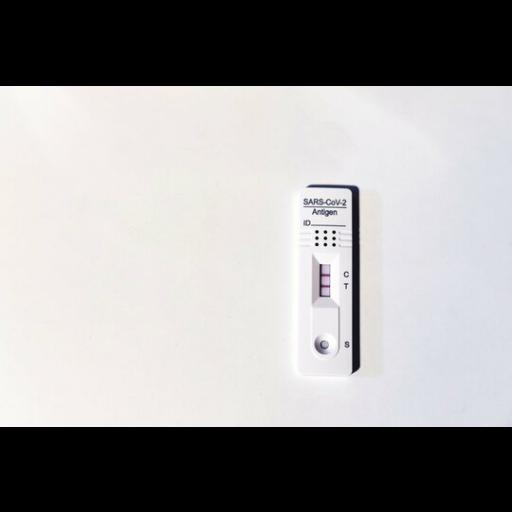Pos: (298, 186, 352, 374)
